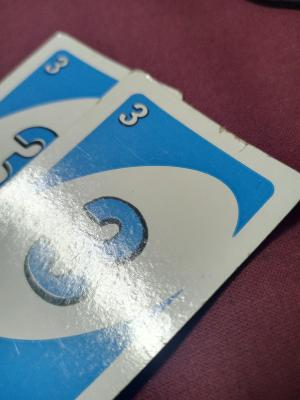blue: (11, 119, 206, 377)
num_3: (114, 98, 151, 134), (41, 53, 73, 80)
